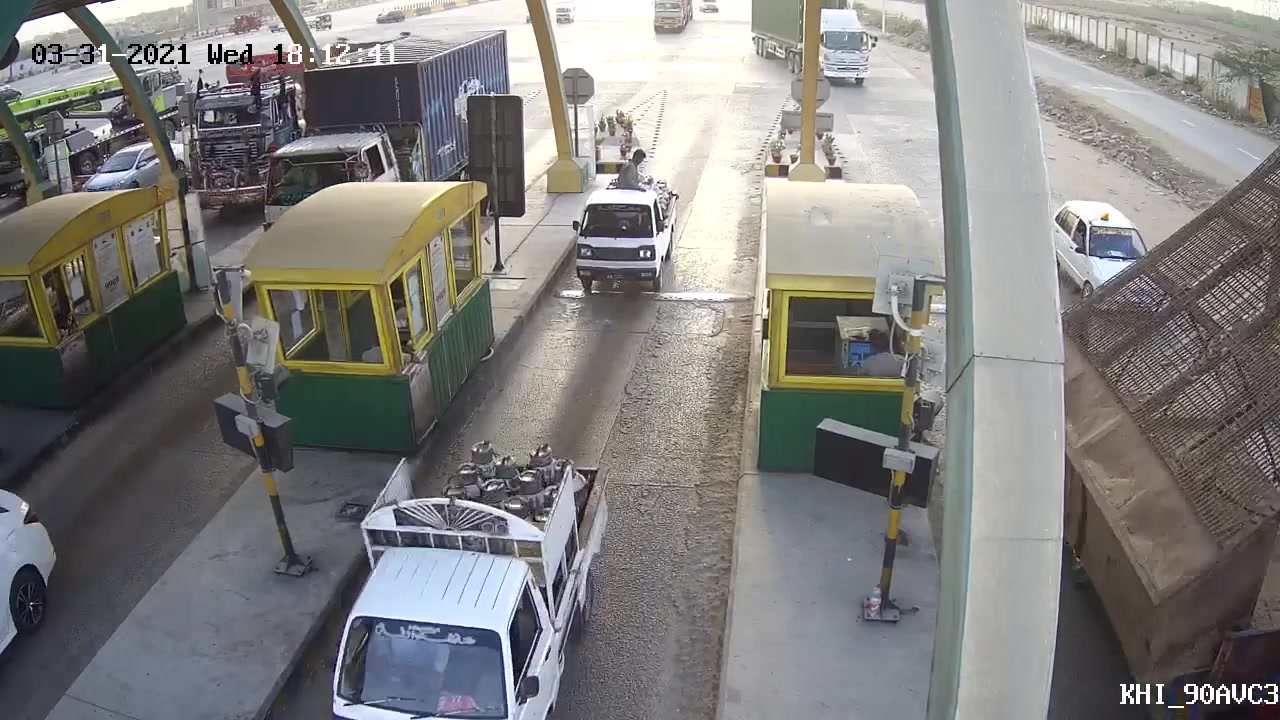F2: (564, 153, 678, 297)
